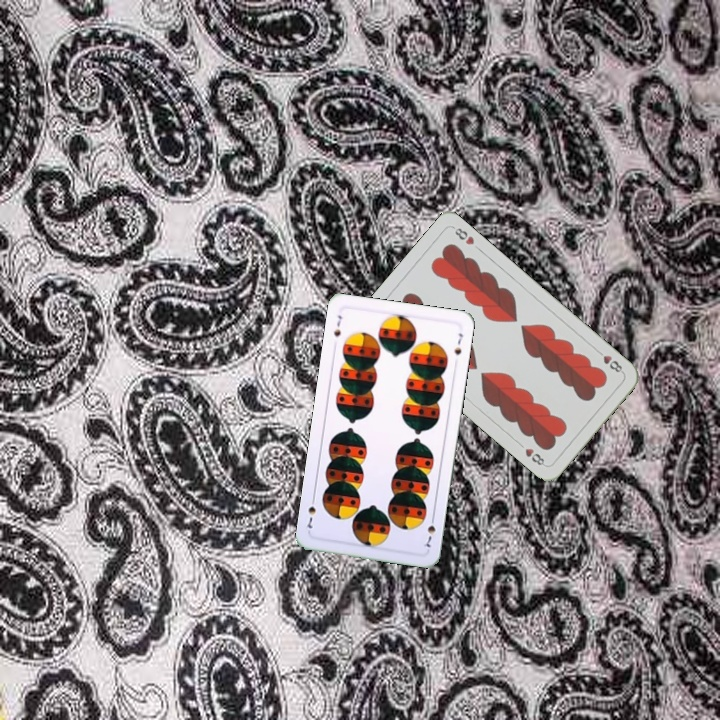H8: (592, 346, 626, 376)
S7: (420, 511, 438, 550), (330, 311, 344, 339)
